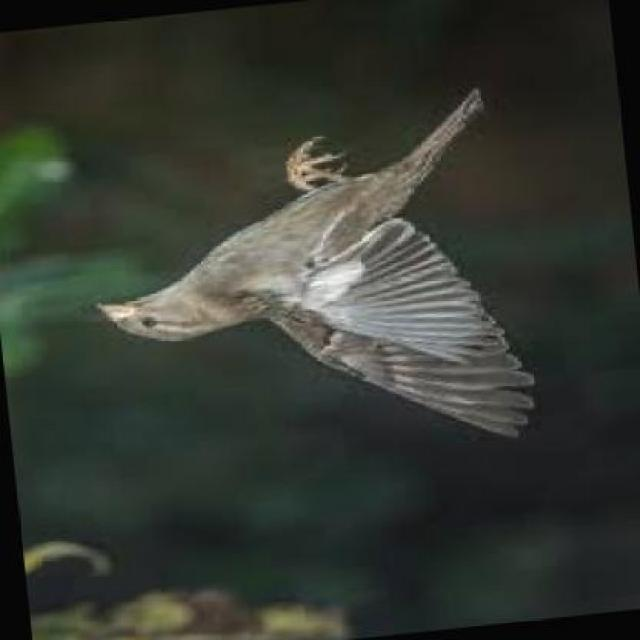Bird: (91, 81, 548, 452)
